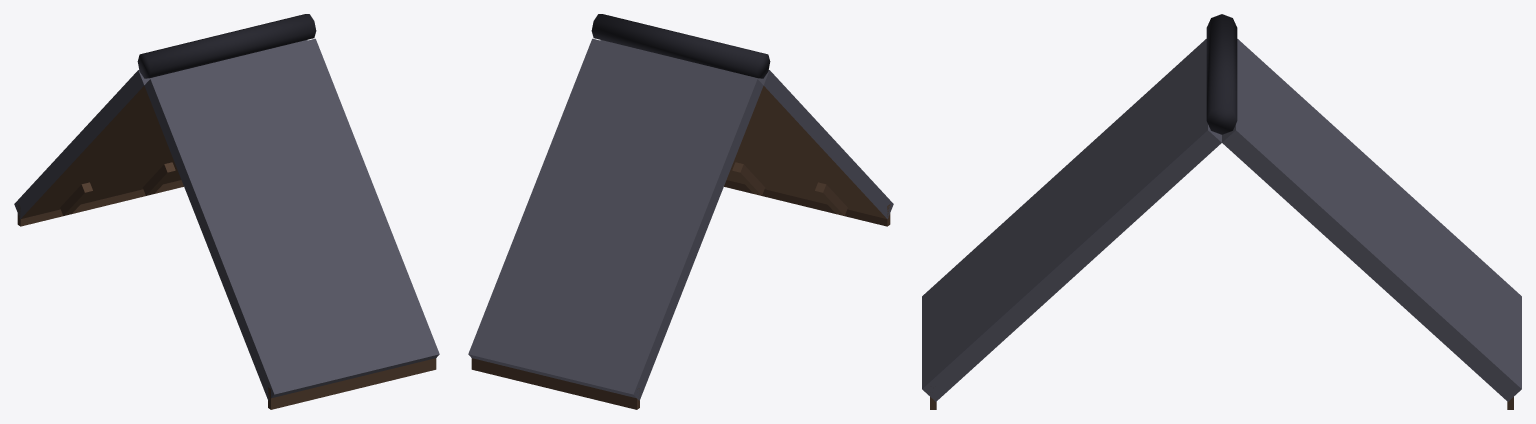
The model's file is kit_stone_slate_w2.glb.
3 renders of one model, left to right at view 1: azimuth 30°, elevation 25°; view 2: azimuth 150°, elevation 25°; view 3: azimuth 270°, elevation 25°, orthographic. The views are drawn at different scales.
Parts seen in each view (by area): view 1: kit_stone_slate_w2; view 2: kit_stone_slate_w2; view 3: kit_stone_slate_w2.
Boxes of the visible parts, x1,y1,x2,y2 form: kit_stone_slate_w2: [14, 14, 439, 409]; kit_stone_slate_w2: [468, 14, 893, 409]; kit_stone_slate_w2: [922, 14, 1521, 409].
Bounding box in the file's own units: 1 × 1.52 × 2.73.
